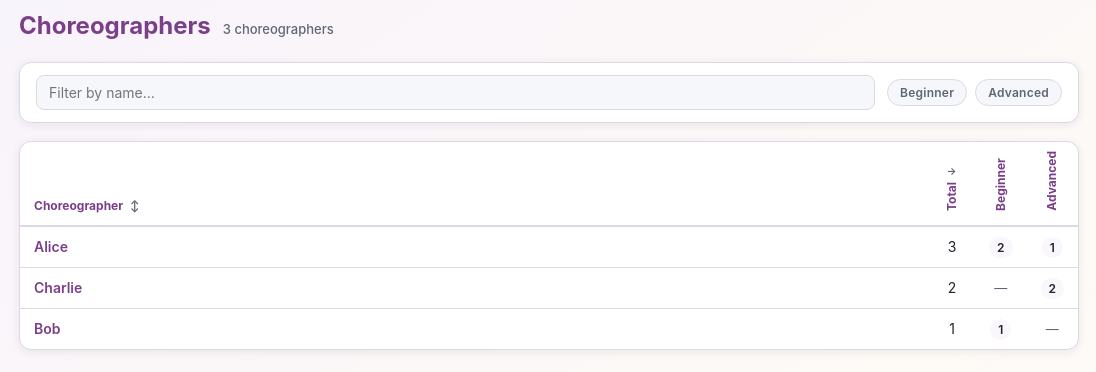
Test: ChoreographersPage › filters by level — shows only authors with choreos at that level
This screenshot has width=1096, height=372.
Check: the button "Alice" is shown, box top-left (34, 238), bottom-right (68, 255)
Click the button "Advanced" at (1019, 92), box top-left (975, 79), bottom-right (1062, 106)
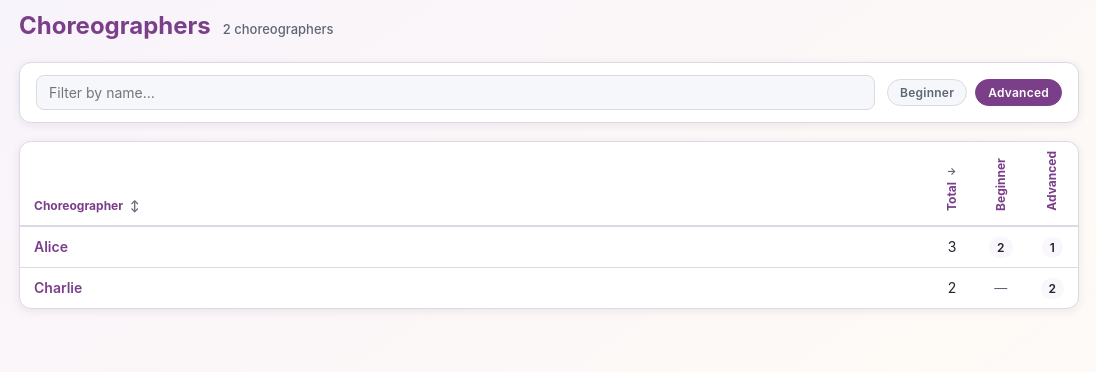
Check: the button "Alice" is shown, box top-left (34, 238), bottom-right (68, 255)
Check: the button "Bob" is gone
